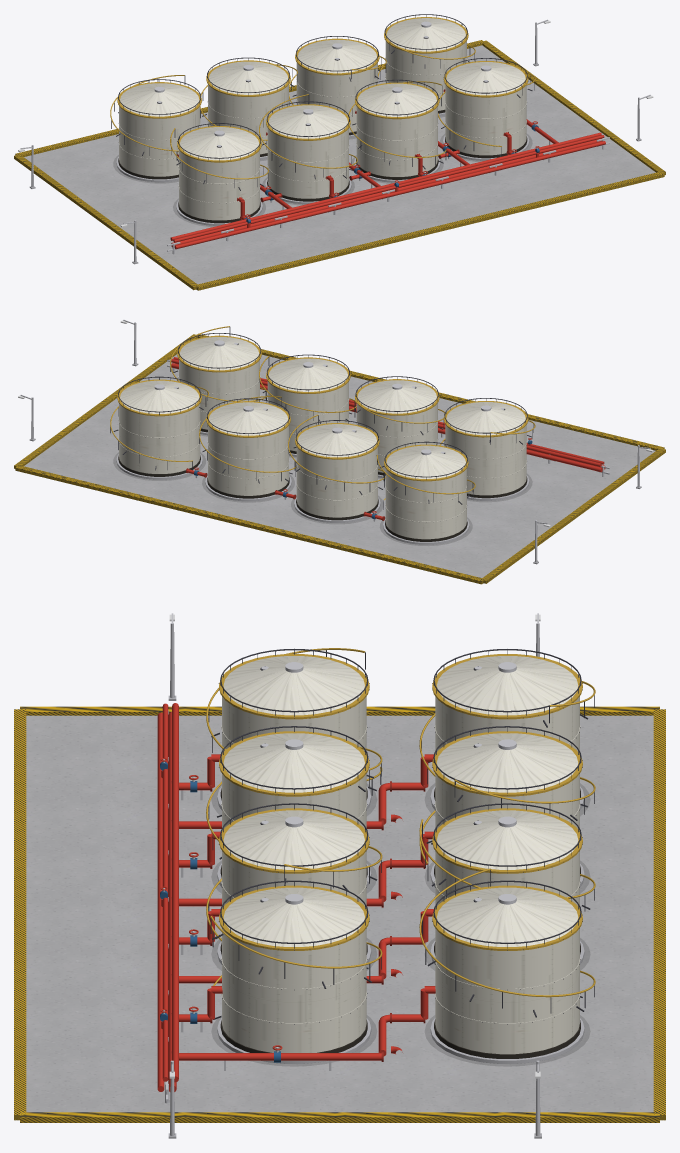
Rendered from parque-tanques.glb.
3 views of the same model, one above another, from view 1: azimuth 30°, elevation 25°; view 2: azimuth 150°, elevation 25°; view 3: azimuth 270°, elevation 25° (orthographic). The views are drawn at different scales.
Bounding box in the file's own units: 144 × 19.78 × 85.6.
17 materials, 5 textured.
